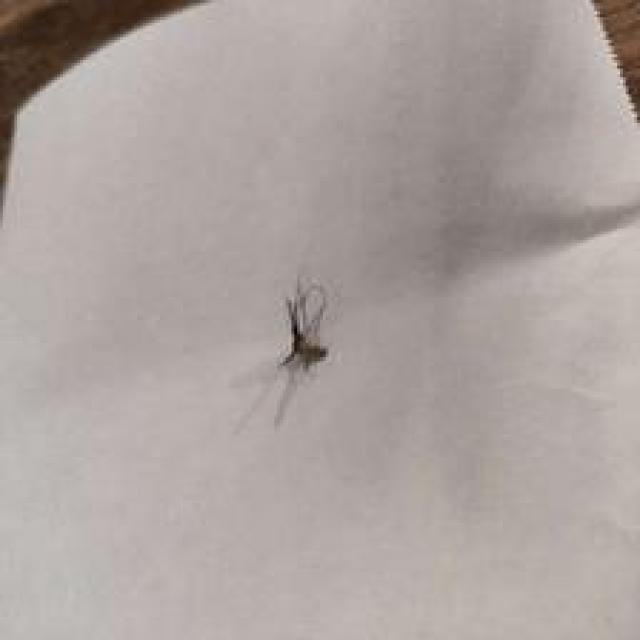Culex: (276, 274, 330, 374)
